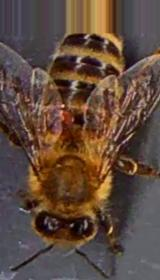varroa_mite: (52, 108, 78, 128)
